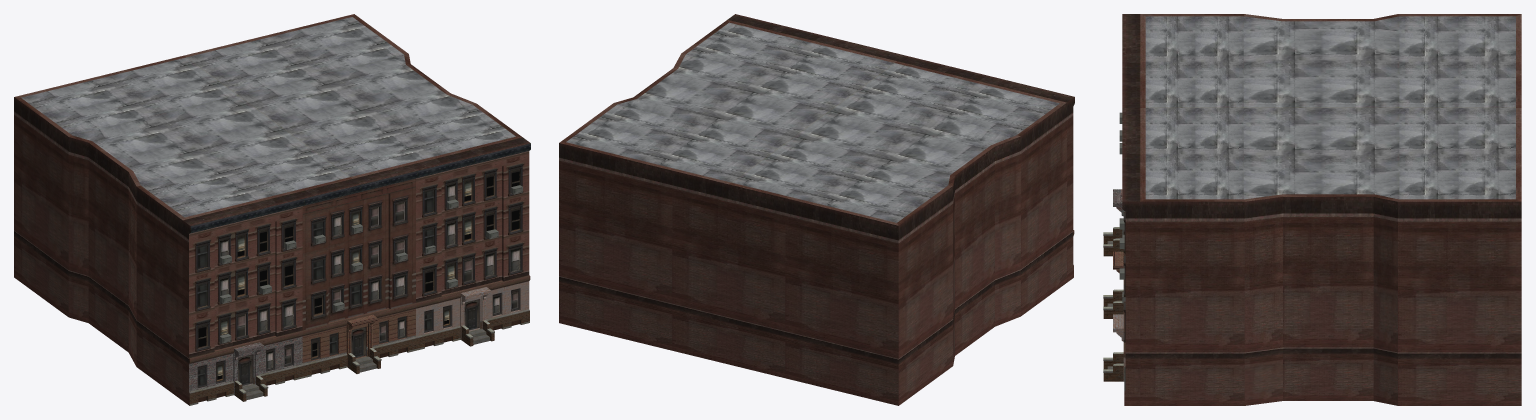
File: harlem.glb
The picture shows the model from 3 angles, left to right: view 1: azimuth 30°, elevation 25°; view 2: azimuth 150°, elevation 25°; view 3: azimuth 270°, elevation 25°; orthographic projection. The views are drawn at different scales.
Visible parts, largest first — view 1: harlem; view 2: harlem; view 3: harlem.
Part boxes in pixels (left/top/right/bottom): harlem: left=14, top=14, right=530, bottom=405; harlem: left=559, top=14, right=1074, bottom=405; harlem: left=1103, top=14, right=1521, bottom=405.
Bounding box in the file's own units: 30.44 × 15.5 × 28.64.
Materials: 2 (2 with a texture image).
